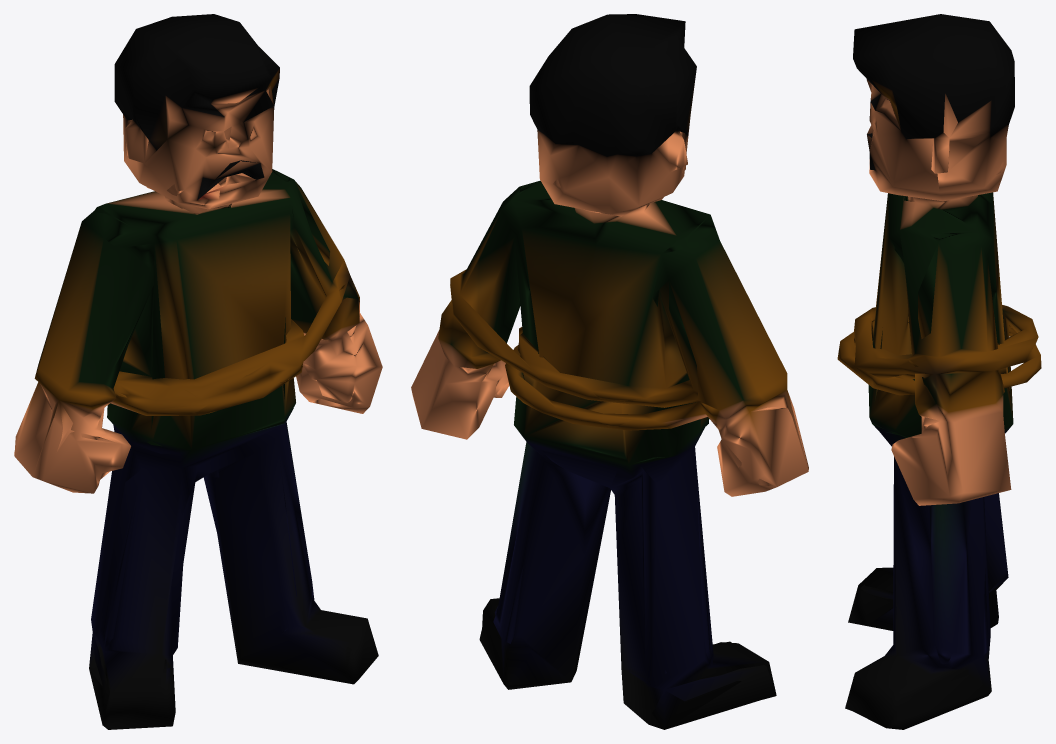
File: gen3d-hostage-lod1.glb
3 views of the same model, side by side, from view 1: azimuth 30°, elevation 25°; view 2: azimuth 150°, elevation 25°; view 3: azimuth 270°, elevation 25° (orthographic). The views are drawn at different scales.
Parts seen in each view (by area): view 1: part_0; view 2: part_0; view 3: part_0.
Boxes of the visible parts, x1,y1,x2,y2 form: part_0: (14, 14, 382, 729); part_0: (411, 14, 808, 729); part_0: (837, 14, 1041, 729).
Bounding box in the file's own units: 0.5915 × 0.9972 × 0.2921.
